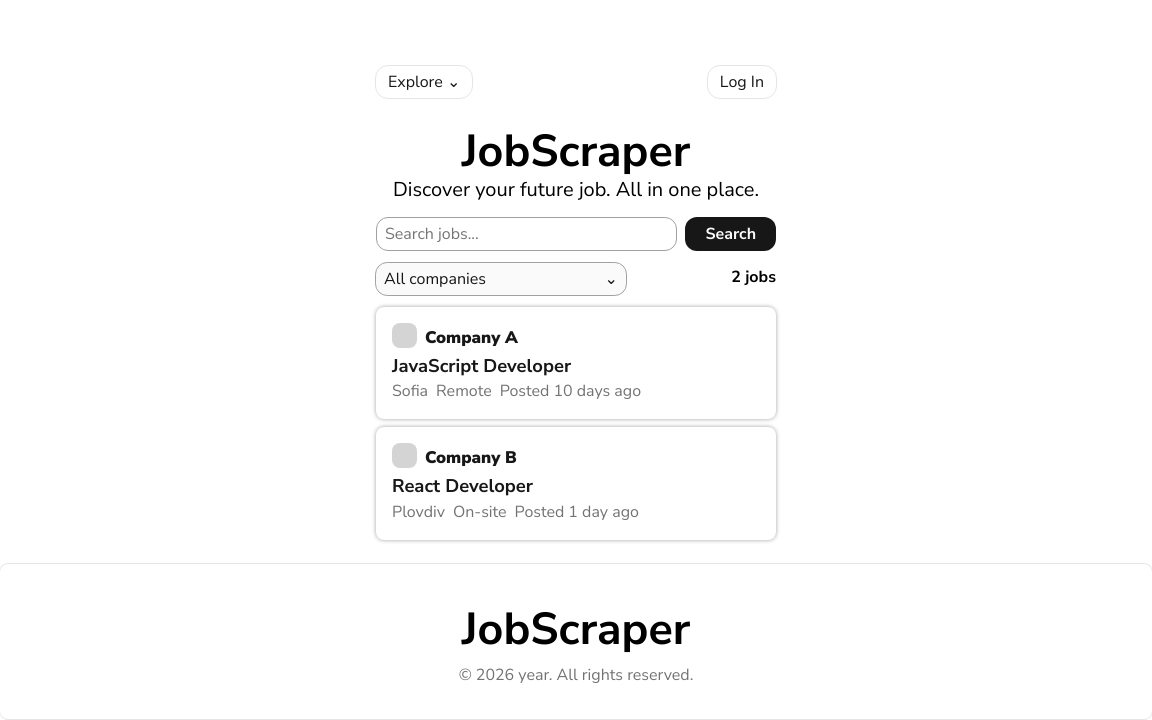
render HomePage › should render dashboard anchor when you click on anchor and login
This screenshot has width=1152, height=720.
Click the link "Log In".
click(742, 82)  # box top-left (720, 71), bottom-right (764, 93)
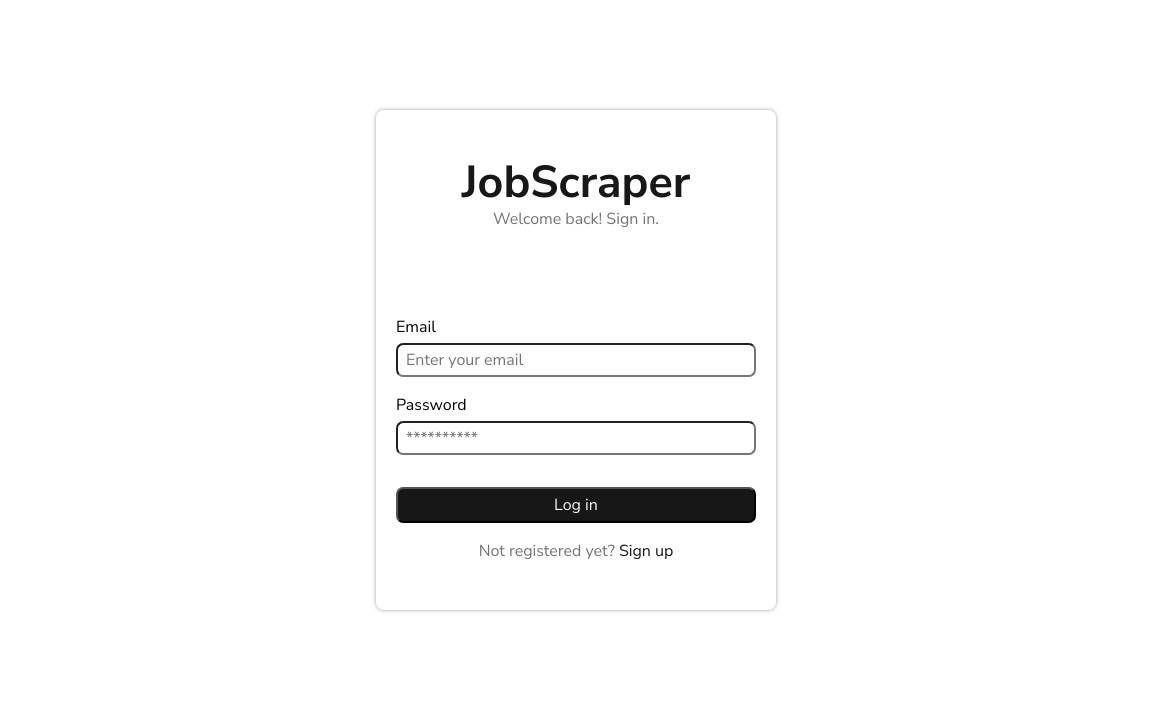
Type "testing@abv.bg" into the field labelled "Email".
click(576, 360); type("testing@abv.bg")  # box top-left (396, 343), bottom-right (756, 377)
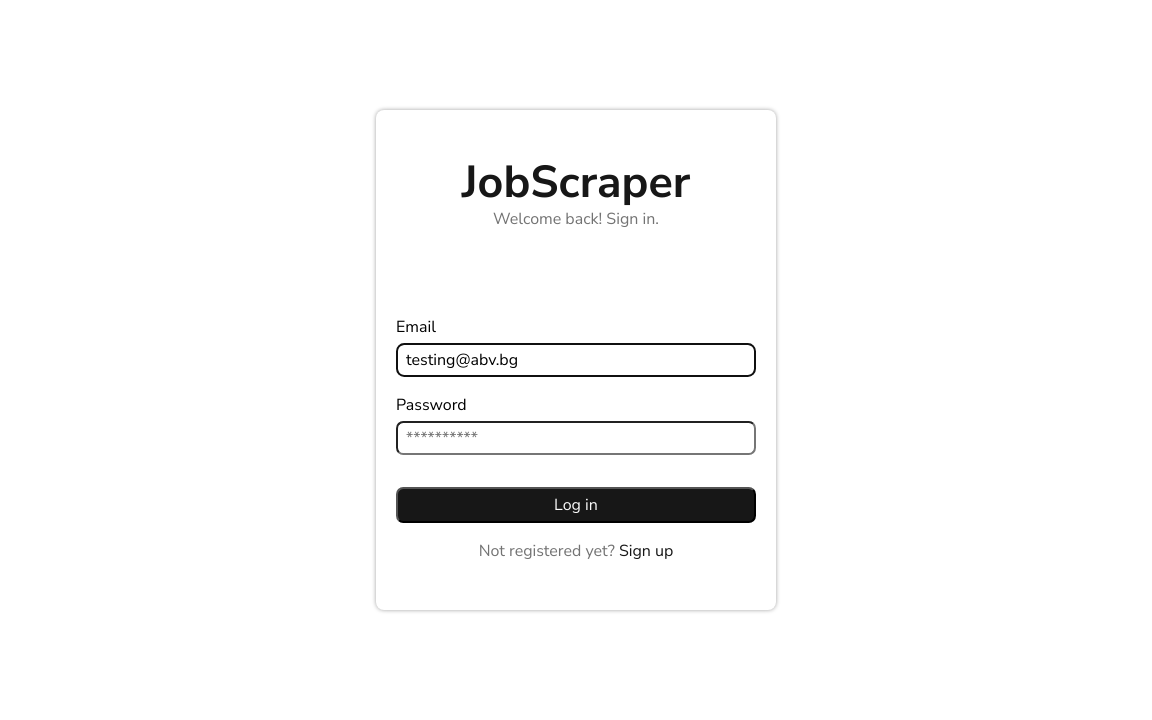
Type "12345678BG" into the password field labelled "Password".
click(576, 438); type("12345678BG")  # box top-left (396, 421), bottom-right (756, 455)
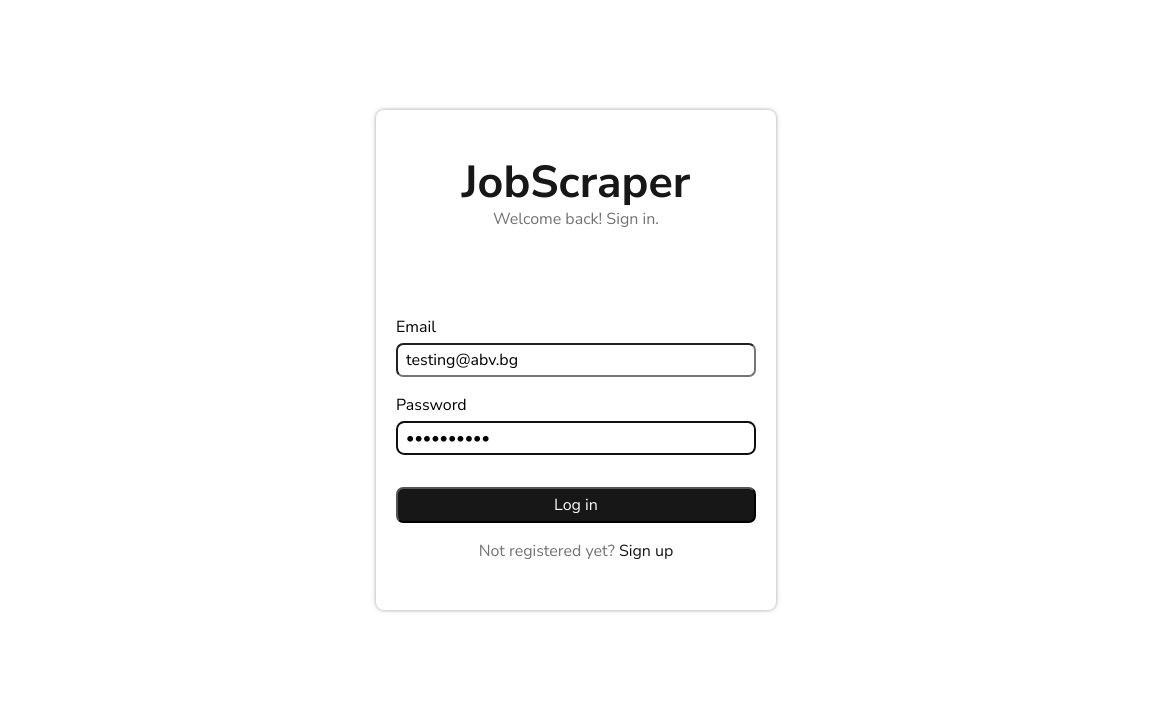
Click the button "Log in".
click(576, 505)  # box top-left (396, 487), bottom-right (756, 523)
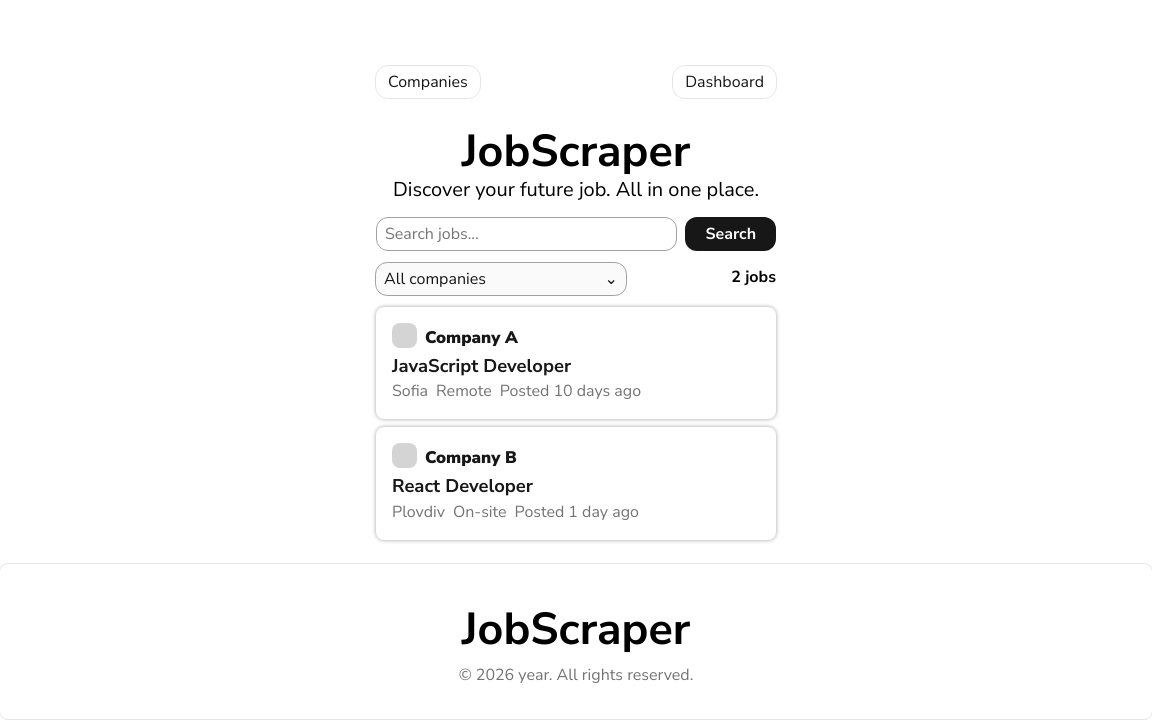
Expected: the link "Dashboard" is shown, top-left (685, 71), bottom-right (764, 93)
